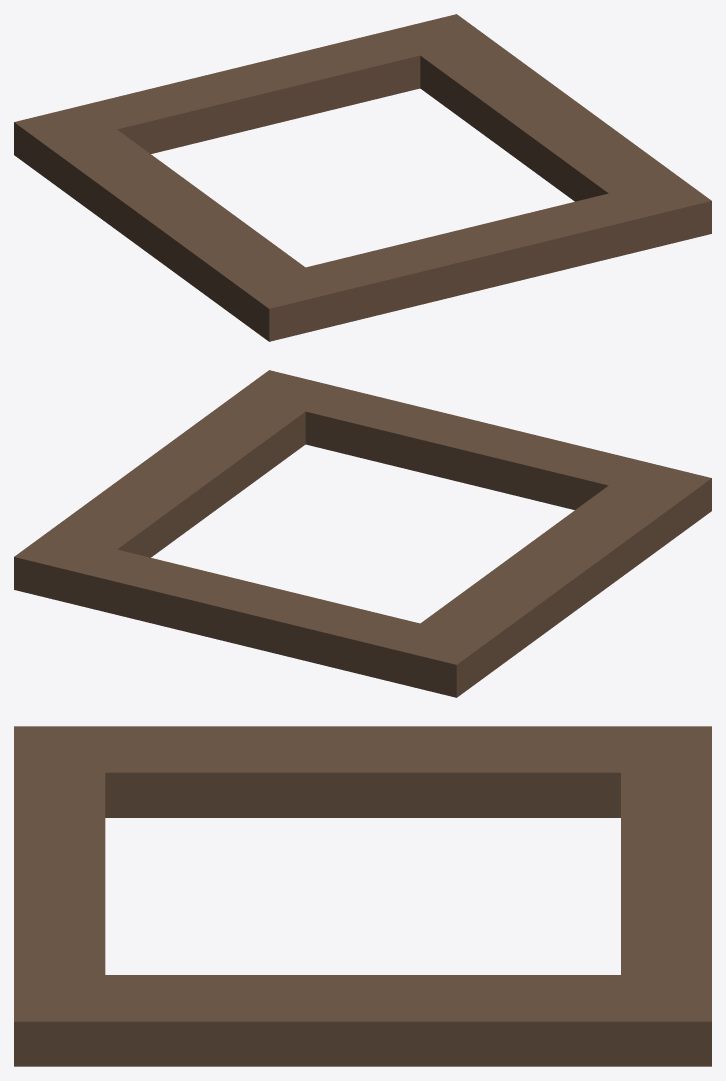
Rendered from keep-wd02_32.obj.
3 views of the same model, one above another, from view 1: azimuth 30°, elevation 25°; view 2: azimuth 150°, elevation 25°; view 3: azimuth 270°, elevation 25° (orthographic). The views are drawn at different scales.
Size of the model in its own units: 0.4218 by 0.03 by 0.4211.
Materials: 1 (1 with a texture image).
